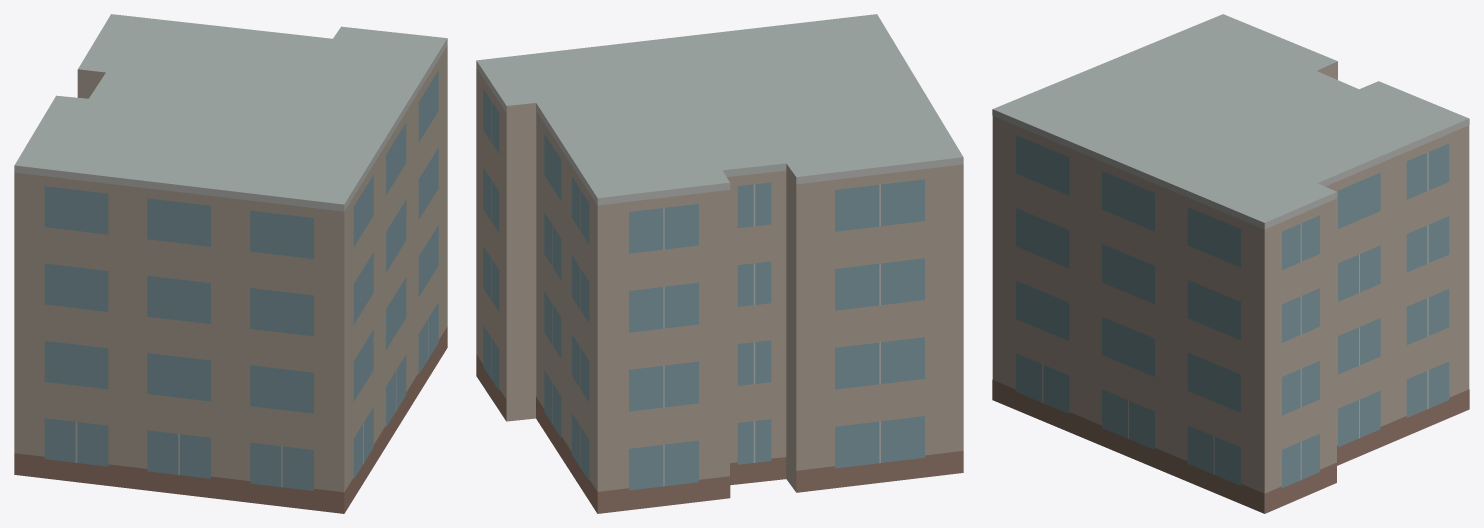
Rendered from survey-upis-32597792.glb.
3 views of the same model, side by side, from view 1: azimuth 30°, elevation 25°; view 2: azimuth 150°, elevation 25°; view 3: azimuth 270°, elevation 25° (orthographic). The views are drawn at different scales.
Parts seen in each view (by area): view 1: survey-upis-32597792.tmp; view 2: survey-upis-32597792.tmp; view 3: survey-upis-32597792.tmp.
Part boxes in pixels (x1=…): survey-upis-32597792.tmp: x1=14, y1=14, x2=447, y2=513; survey-upis-32597792.tmp: x1=476, y1=14, x2=963, y2=513; survey-upis-32597792.tmp: x1=992, y1=14, x2=1469, y2=513.
Bounding box in the file's own units: 16.49 × 10.7 × 15.9.
